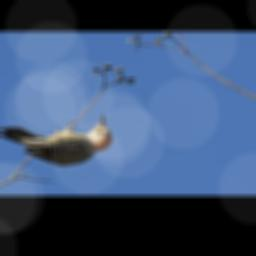Woodpecker: (0, 111, 123, 167)
